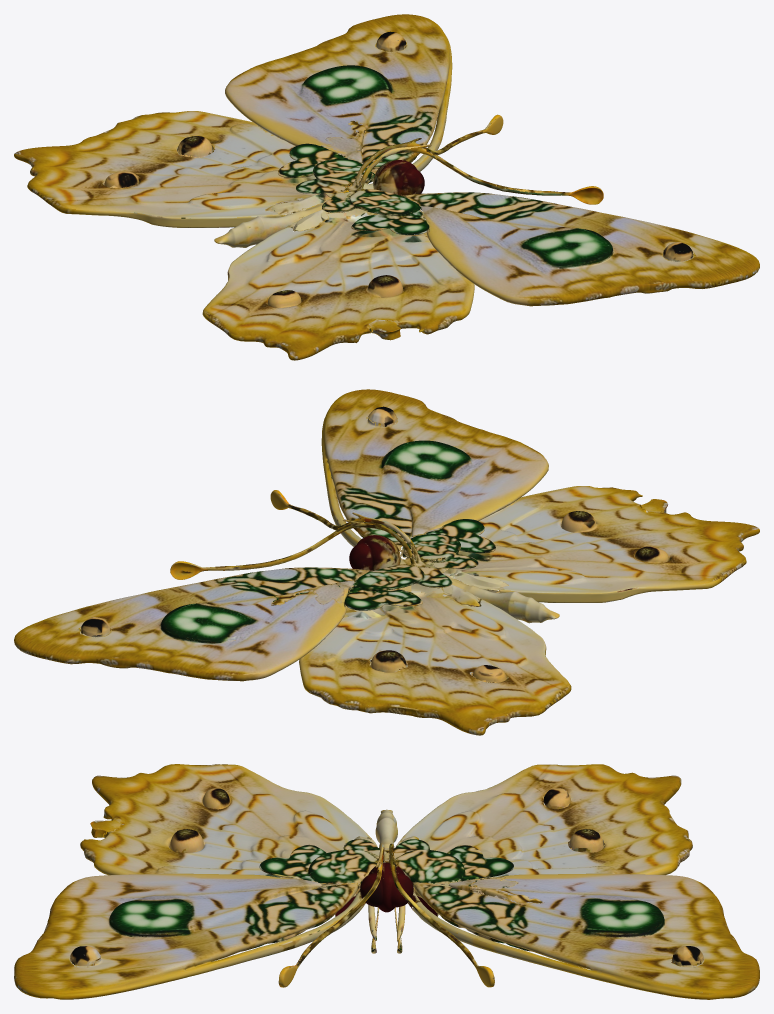
File: mariposa (1).glb
3 renders of one model, top to bottom at view 1: azimuth 30°, elevation 25°; view 2: azimuth 150°, elevation 25°; view 3: azimuth 270°, elevation 25°, orthographic. The views are drawn at different scales.
Parts seen in each view (by area): view 1: tripo_part_4, tripo_part_3, tripo_part_19, tripo_part_21, tripo_part_13, tripo_part_12, tripo_part_10, tripo_part_5, tripo_part_16, tripo_part_20, tripo_part_17; view 2: tripo_part_19, tripo_part_21, tripo_part_4, tripo_part_3, tripo_part_13, tripo_part_16, tripo_part_12, tripo_part_10, tripo_part_7, tripo_part_17, tripo_part_20, tripo_part_5; view 3: tripo_part_3, tripo_part_21, tripo_part_4, tripo_part_19, tripo_part_13, tripo_part_10, tripo_part_16, tripo_part_5, tripo_part_11, tripo_part_17, tripo_part_12, tripo_part_20 (+4 smaller).
Part boxes in pixels (x1=…): tripo_part_4: x1=202, y1=208, x2=474, y2=360; tripo_part_3: x1=402, y1=192, x2=759, y2=306; tripo_part_19: x1=14, y1=111, x2=347, y2=227; tripo_part_21: x1=225, y1=14, x2=452, y2=183; tripo_part_13: x1=266, y1=143, x2=429, y2=235; tripo_part_12: x1=214, y1=201, x2=326, y2=247; tripo_part_10: x1=373, y1=160, x2=424, y2=195; tripo_part_5: x1=424, y1=148, x2=603, y2=204; tripo_part_16: x1=356, y1=114, x2=503, y2=183; tripo_part_20: x1=177, y1=136, x2=214, y2=157; tripo_part_17: x1=322, y1=120, x2=367, y2=151; tripo_part_19: x1=299, y1=583, x2=571, y2=735; tripo_part_21: x1=14, y1=567, x2=370, y2=681; tripo_part_4: x1=400, y1=486, x2=759, y2=602; tripo_part_3: x1=321, y1=389, x2=548, y2=558; tripo_part_13: x1=345, y1=519, x2=495, y2=610; tripo_part_16: x1=170, y1=519, x2=413, y2=579; tripo_part_12: x1=445, y1=575, x2=559, y2=623; tripo_part_10: x1=349, y1=535, x2=400, y2=570; tripo_part_7: x1=442, y1=568, x2=507, y2=592; tripo_part_17: x1=271, y1=583, x2=344, y2=604; tripo_part_20: x1=370, y1=650, x2=406, y2=672; tripo_part_5: x1=270, y1=490, x2=364, y2=530; tripo_part_3: x1=14, y1=873, x2=364, y2=999; tripo_part_21: x1=412, y1=873, x2=759, y2=999; tripo_part_4: x1=80, y1=764, x2=371, y2=897; tripo_part_19: x1=399, y1=764, x2=692, y2=897; tripo_part_13: x1=259, y1=836, x2=513, y2=885; tripo_part_10: x1=360, y1=862, x2=413, y2=912; tripo_part_16: x1=389, y1=843, x2=494, y2=987; tripo_part_5: x1=278, y1=859, x2=382, y2=987; tripo_part_11: x1=351, y1=851, x2=420, y2=953; tripo_part_17: x1=469, y1=877, x2=543, y2=905; tripo_part_12: x1=375, y1=809, x2=397, y2=858; tripo_part_20: x1=568, y1=829, x2=604, y2=852.
Size of the model in its own units: 1.59 by 0.3598 by 2.1.
24 materials, 24 textured.
